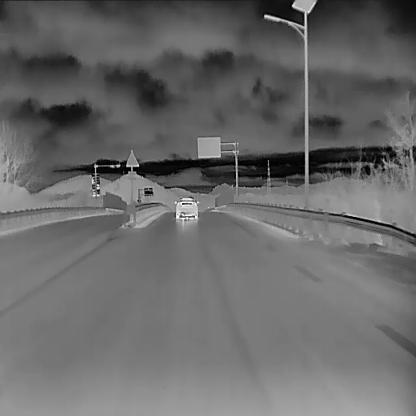car: (173, 194, 199, 219)
